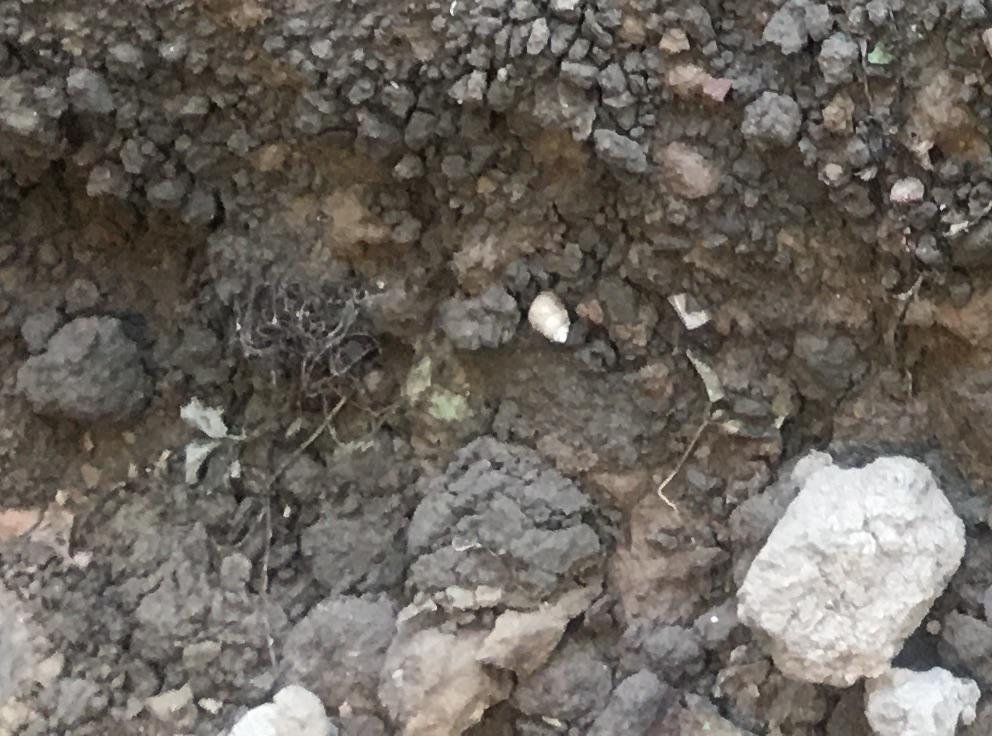block: (734, 455, 966, 688), (13, 319, 154, 427)
